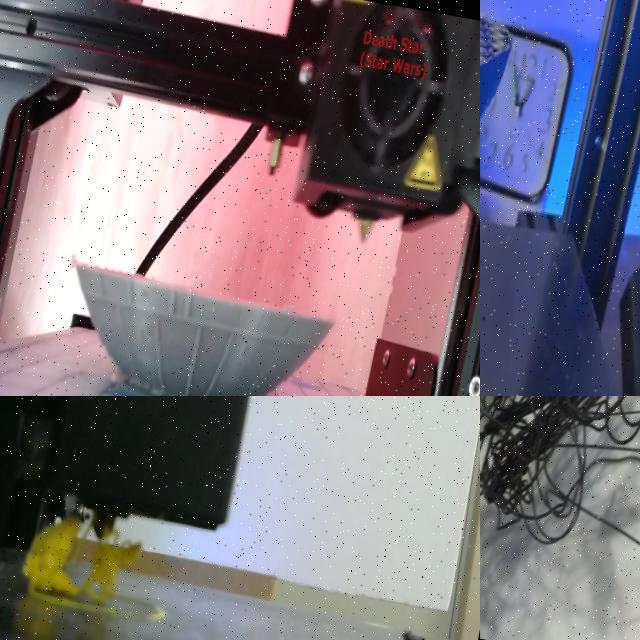spaghetti: (480, 396, 640, 546), (21, 516, 140, 603)
